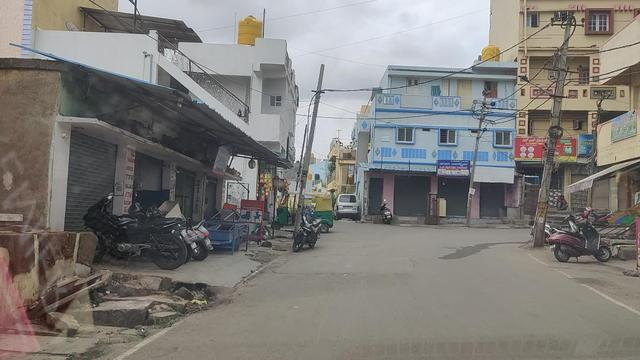RoadDamages: (274, 267, 355, 280), (409, 257, 417, 273)
